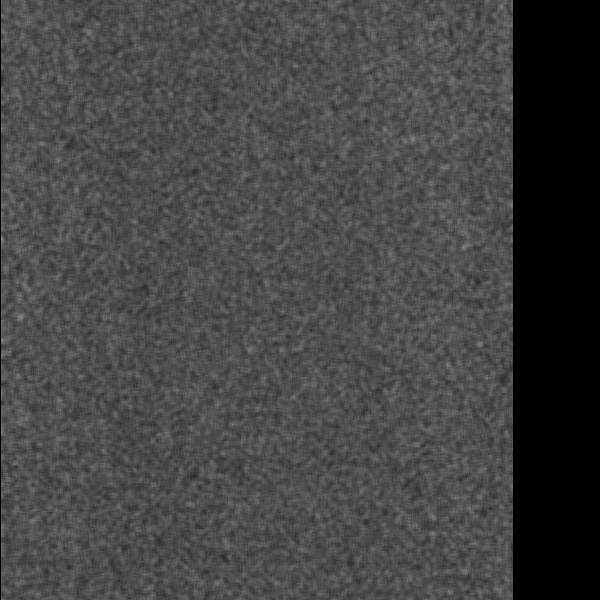spark: (287, 106, 326, 170), (37, 400, 63, 451)
